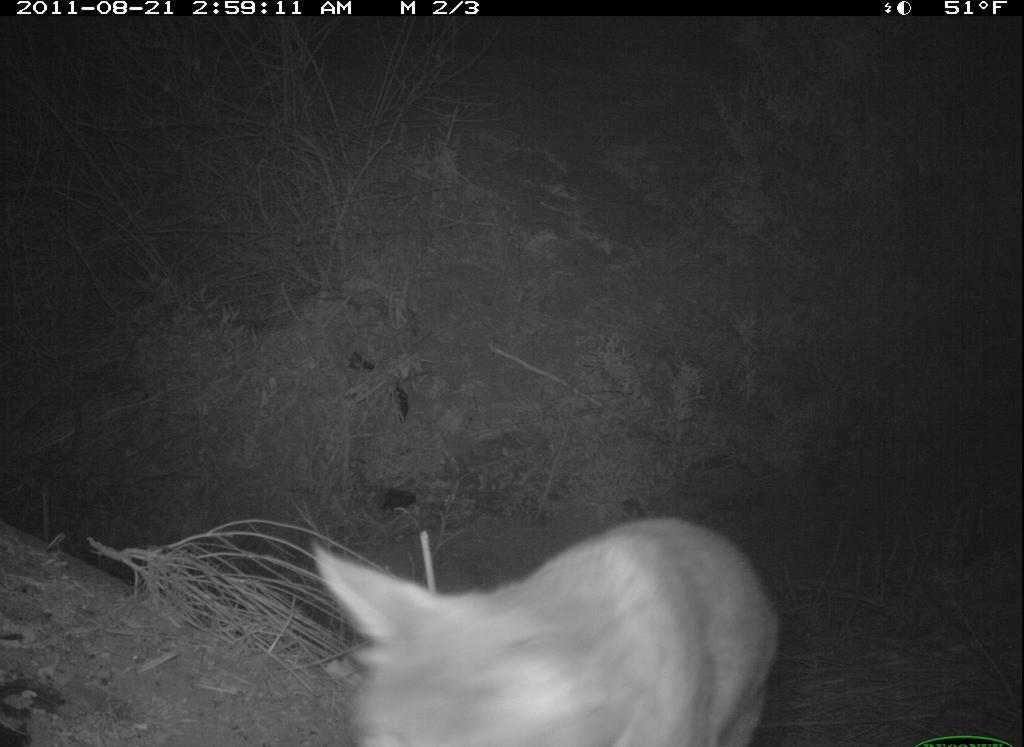cat: (286, 492, 785, 747)
